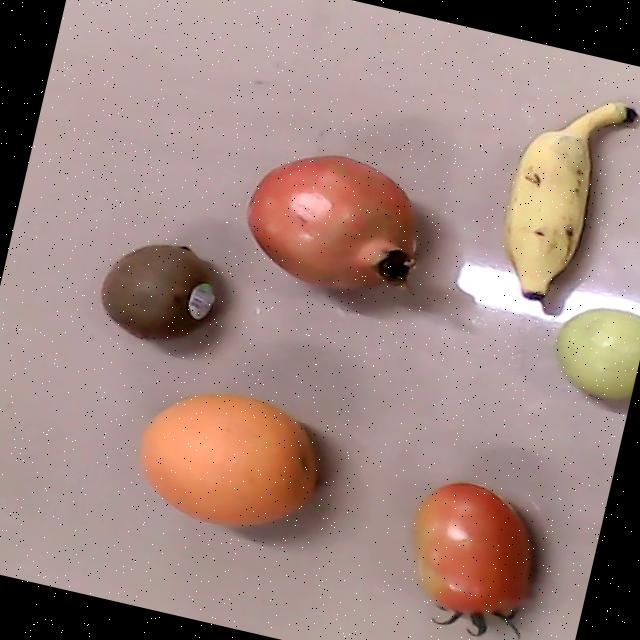kiwi: (100, 242, 219, 339)
lemon: (552, 306, 640, 401)
orange: (138, 392, 315, 526)
pomegranate: (245, 153, 417, 290)
tomato: (410, 482, 531, 639)
